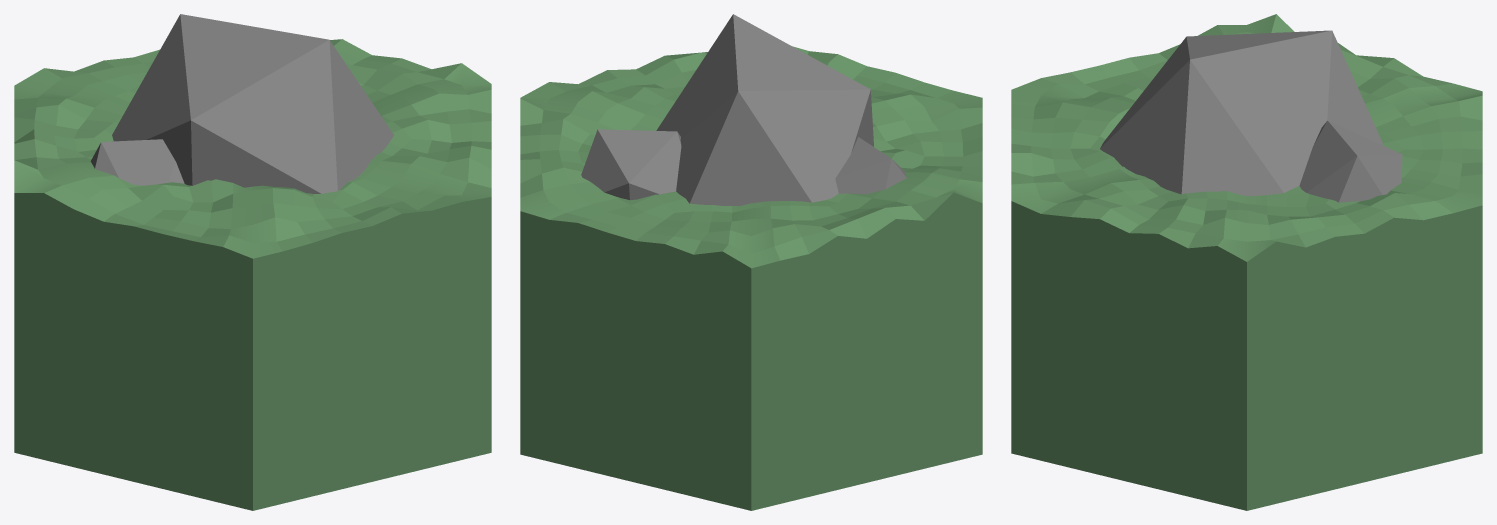
The model's file is boulders.fbx.
3 views of the same model, side by side, from view 1: azimuth 30°, elevation 25°; view 2: azimuth 150°, elevation 25°; view 3: azimuth 270°, elevation 25° (orthographic). The views are drawn at different scales.
Parts seen in each view (by area): view 1: Grass3; view 2: Grass3; view 3: Grass3.
Boxes of the visible parts, left/top/right/bottom form: Grass3: left=14, top=14, right=491, bottom=510; Grass3: left=520, top=14, right=982, bottom=510; Grass3: left=1011, top=14, right=1482, bottom=510.
Size of the model in its own units: 2 by 1.46 by 1.73.
